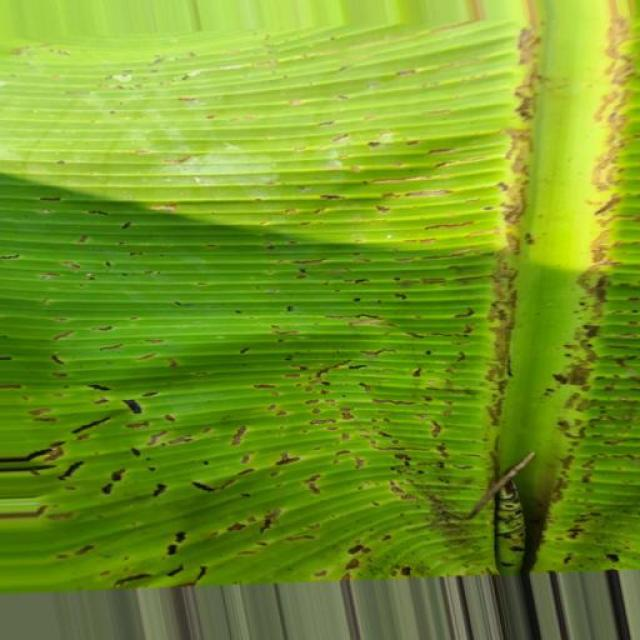Black_rot: (0, 38, 640, 582)
